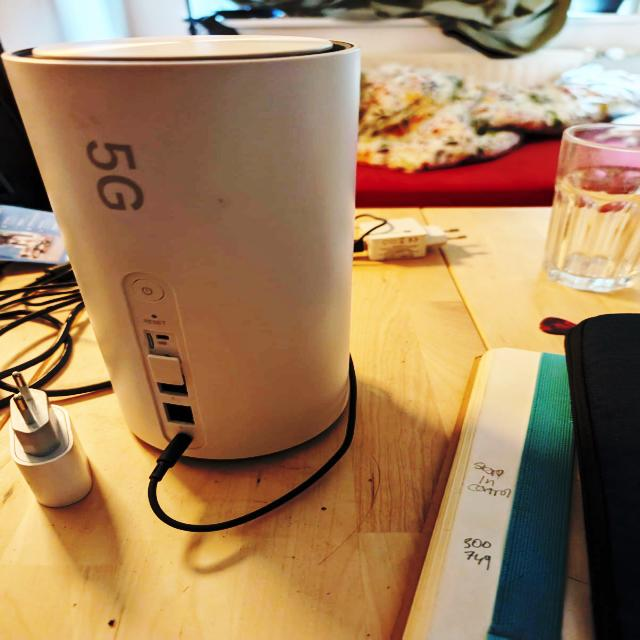modem: (0, 36, 367, 460)
onbutton: (132, 280, 167, 302)
siminside: (142, 331, 154, 352)
